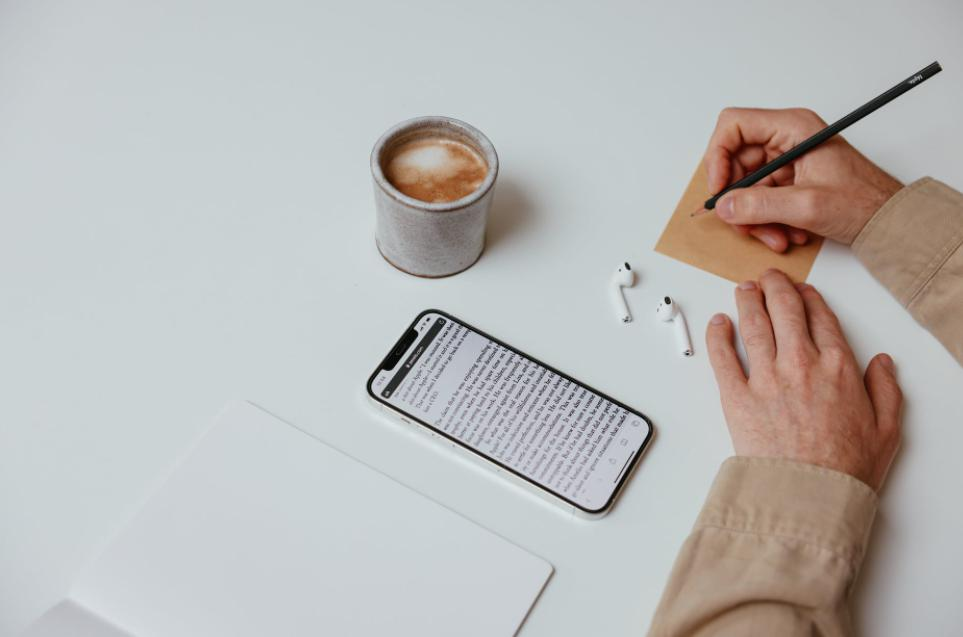mobile: (364, 312, 652, 518)
